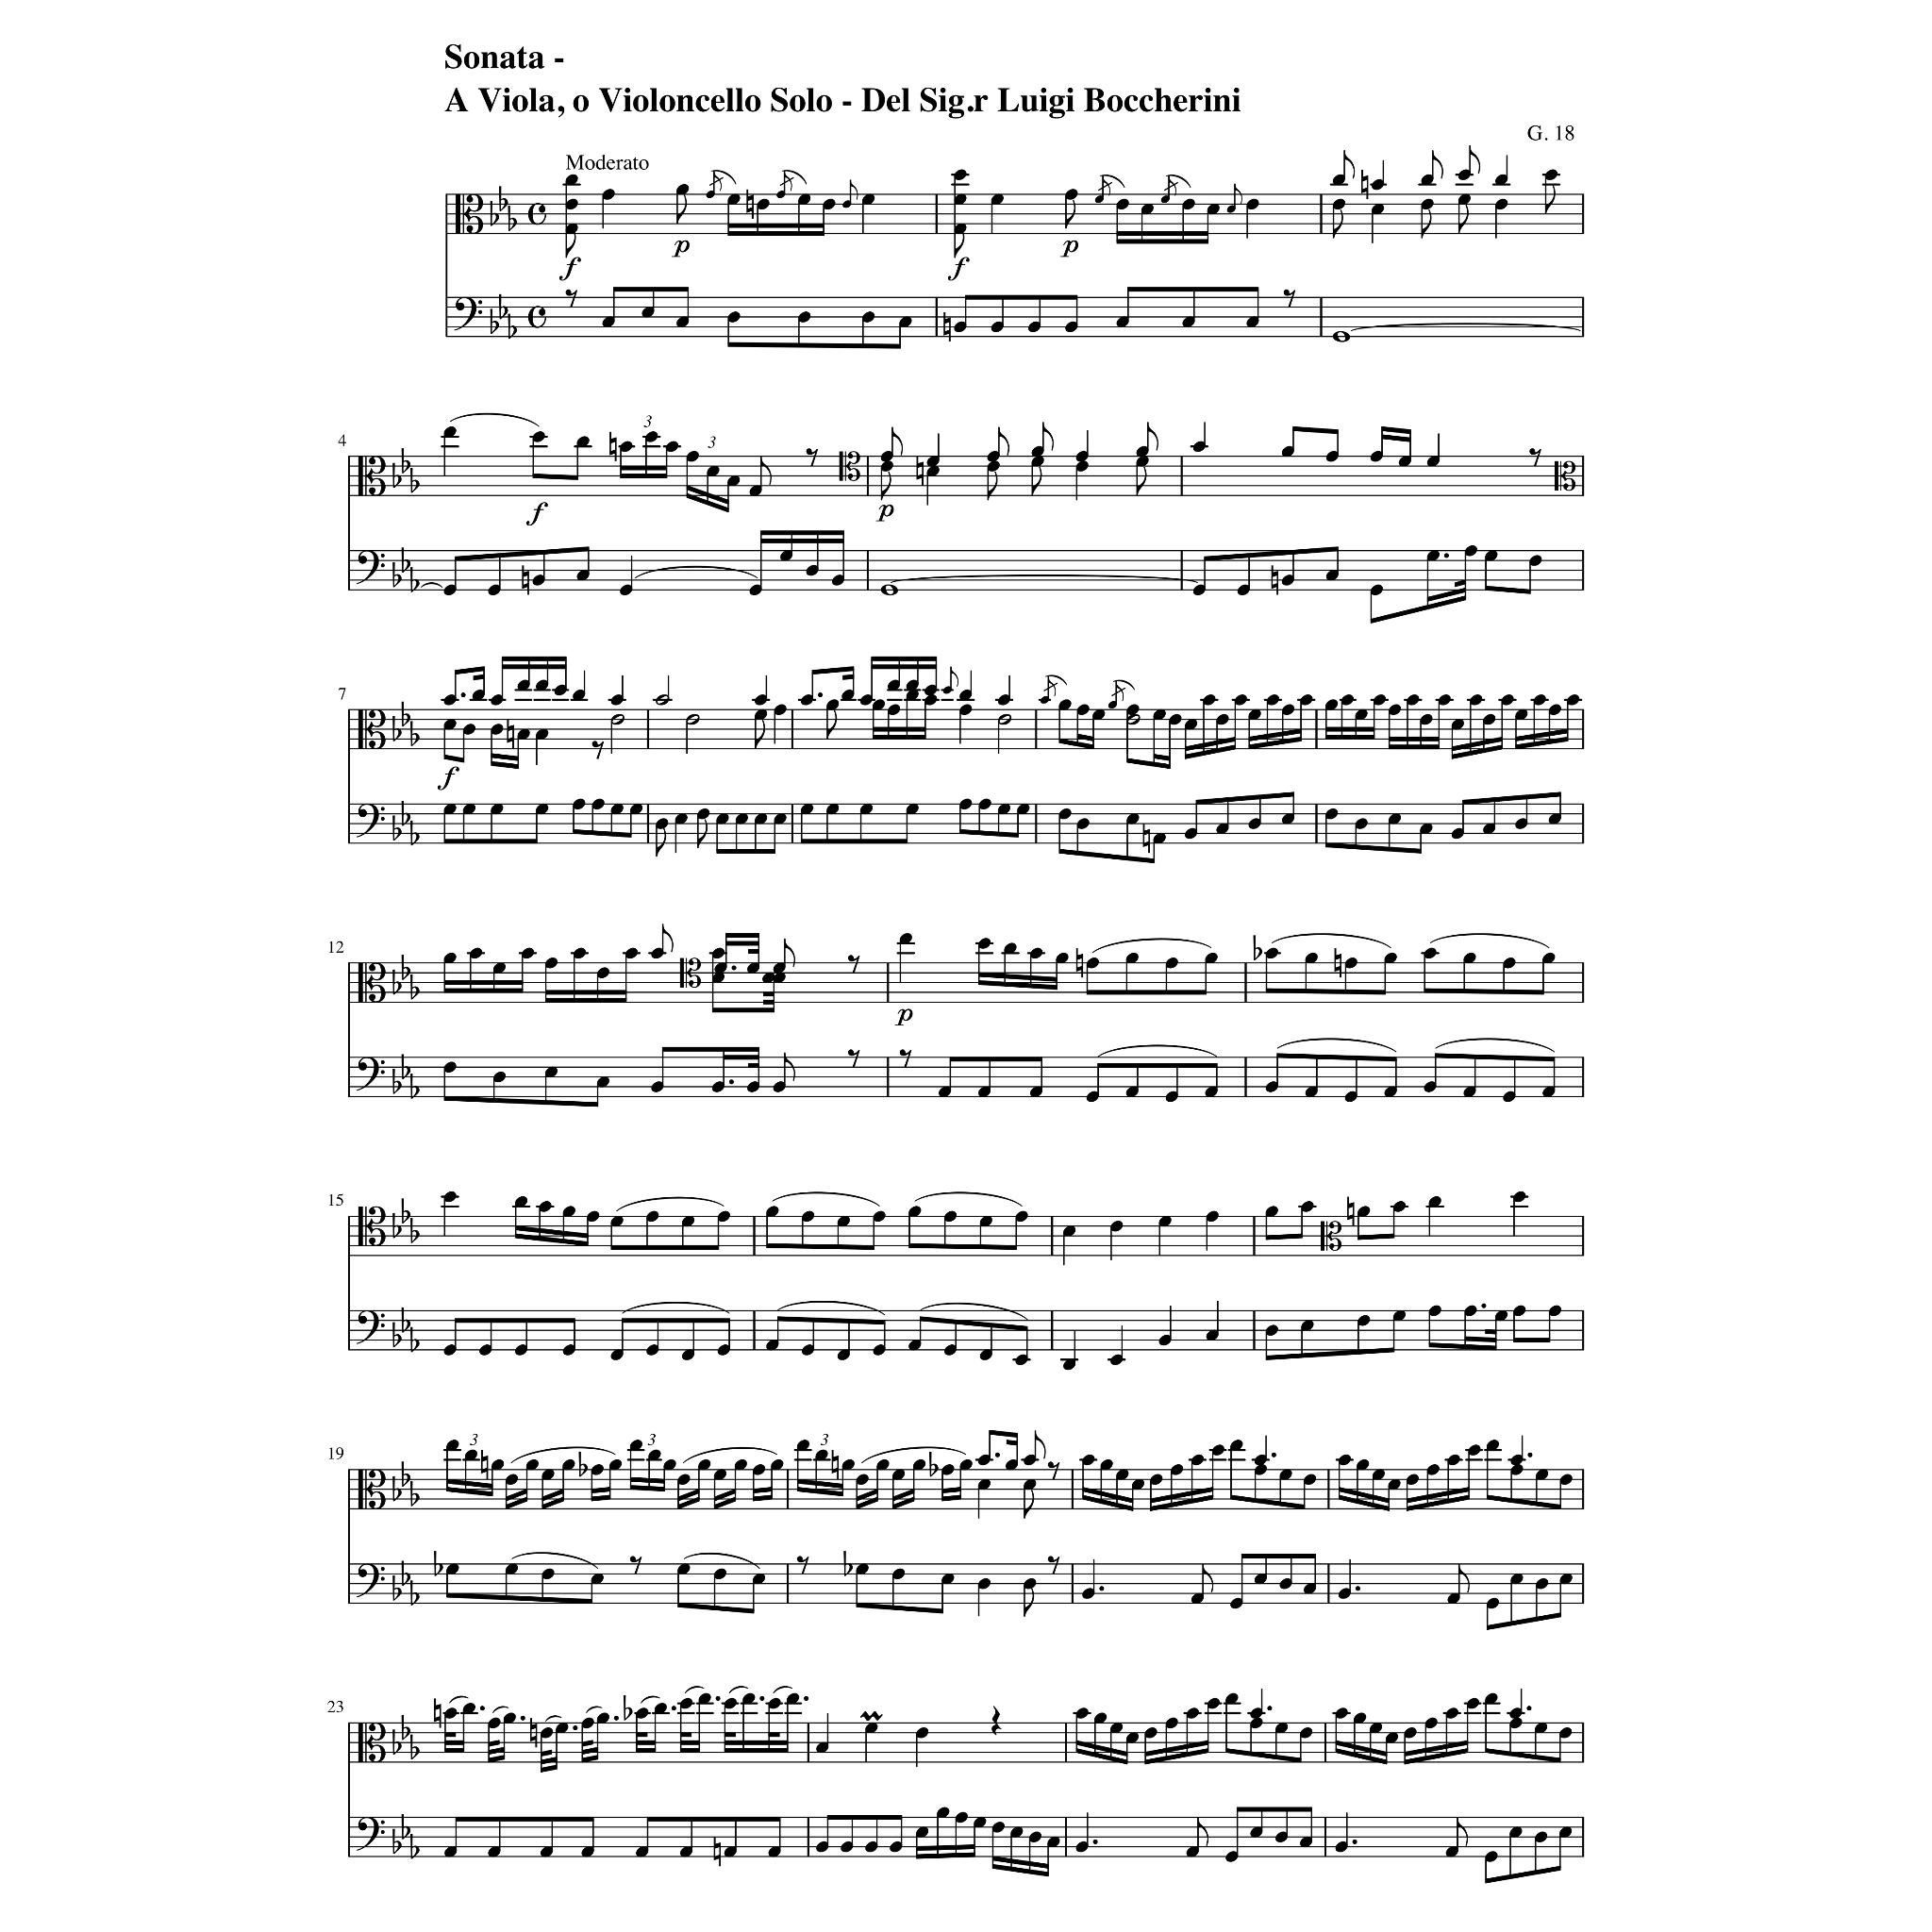fClef: (356, 550, 384, 586), (356, 803, 384, 839), (356, 1056, 384, 1092), (356, 1309, 384, 1345), (453, 297, 481, 331), (356, 1564, 384, 1598), (356, 1817, 384, 1851)
flag8thDown: (1334, 209, 1345, 239), (1546, 184, 1557, 214), (1422, 209, 1433, 239), (566, 228, 577, 258), (954, 228, 964, 258), (987, 471, 998, 501), (881, 471, 892, 501), (697, 819, 708, 849), (826, 709, 837, 740), (755, 720, 766, 750), (1024, 1587, 1035, 1617), (1065, 200, 1076, 228), (1136, 467, 1146, 495), (1031, 467, 1042, 495), (656, 828, 667, 856), (1024, 1490, 1035, 1518), (1460, 203, 1468, 234), (678, 195, 686, 225)
flag8thUp: (708, 165, 724, 191), (778, 165, 794, 191), (1111, 676, 1127, 702), (1097, 172, 1113, 196), (1162, 172, 1178, 196), (1044, 671, 1058, 697), (998, 426, 1010, 456), (1431, 150, 1444, 179), (1042, 423, 1054, 451), (1146, 423, 1159, 451), (662, 925, 674, 954), (1198, 1817, 1210, 1845), (1470, 145, 1481, 175), (892, 426, 902, 456), (1345, 150, 1355, 179), (761, 456, 771, 485), (784, 1053, 794, 1081), (784, 939, 794, 968), (1203, 1566, 1214, 1594), (1035, 1431, 1046, 1460), (1460, 1566, 1470, 1594), (1458, 1817, 1468, 1845), (849, 180, 858, 202), (950, 667, 959, 688), (1235, 184, 1242, 205)
noteheadBlack: (1246, 317, 1260, 329), (1246, 198, 1260, 211), (1182, 317, 1196, 329), (1182, 198, 1196, 211), (1495, 198, 1509, 211), (1495, 173, 1509, 186), (727, 311, 741, 324), (727, 193, 741, 205), (564, 173, 579, 186), (564, 198, 579, 211), (564, 223, 579, 235), (602, 317, 616, 329), (954, 193, 968, 205), (954, 223, 968, 235), (899, 317, 913, 329), (1281, 573, 1295, 586), (1281, 446, 1295, 458), (1484, 550, 1499, 563), (644, 430, 658, 442), (879, 460, 893, 472), (805, 564, 819, 577), (1281, 812, 1295, 824), (1233, 694, 1247, 706), (1247, 817, 1261, 830), (1058, 699, 1072, 711), (1076, 817, 1090, 830), (1532, 694, 1546, 706), (1500, 694, 1514, 706), (1514, 817, 1529, 830), (1325, 699, 1339, 711), (1451, 828, 1465, 840), (1451, 718, 1465, 731), (674, 812, 688, 824), (655, 817, 669, 830), (462, 803, 476, 816), (442, 694, 456, 706), (442, 718, 456, 731), (442, 803, 456, 816), (517, 729, 531, 741), (534, 729, 548, 741), (534, 803, 548, 816), (773, 812, 787, 824), (800, 694, 814, 706), (800, 803, 814, 816), (734, 812, 748, 824), (1304, 1085, 1318, 1097), (1125, 1085, 1139, 1097), (1502, 957, 1516, 970), (1384, 1085, 1398, 1097), (442, 1062, 456, 1074), (899, 932, 913, 945), (977, 1085, 991, 1097), (978, 1348, 993, 1361), (1062, 1359, 1076, 1371), (1513, 1191, 1527, 1203), (1357, 1315, 1371, 1327), (1357, 1205, 1371, 1217), (978, 1215, 993, 1228), (442, 1191, 456, 1203), (908, 1339, 922, 1352), (908, 1205, 922, 1217), (1230, 1598, 1244, 1610), (1338, 1454, 1352, 1467), (1338, 1587, 1352, 1599), (1131, 1479, 1145, 1491), (1559, 1573, 1573, 1585), (1536, 1468, 1550, 1481), (1371, 1468, 1385, 1481), (1387, 1479, 1401, 1491), (676, 1562, 690, 1575), (713, 1468, 727, 1481), (541, 1468, 556, 1481), (504, 1562, 518, 1575), (941, 1573, 955, 1585), (977, 1454, 991, 1467), (977, 1479, 991, 1491), (1249, 1707, 1263, 1720), (1249, 1718, 1263, 1730), (1249, 1826, 1263, 1838), (1334, 1707, 1348, 1720), (1299, 1727, 1313, 1739), (1299, 1836, 1313, 1849), (1185, 1707, 1200, 1720), (1185, 1845, 1200, 1858), (1559, 1727, 1573, 1739), (1559, 1826, 1573, 1838), (1403, 1727, 1417, 1739), (1424, 1718, 1438, 1730), (1484, 1851, 1499, 1863), (1509, 1707, 1523, 1720), (1509, 1718, 1523, 1730), (1509, 1826, 1523, 1838), (462, 1702, 476, 1714), (487, 1718, 501, 1730), (487, 1845, 501, 1858), (915, 1727, 929, 1739), (915, 1826, 929, 1838), (1010, 1826, 1024, 1838), (1207, 203, 1219, 216), (1332, 198, 1345, 211), (1332, 173, 1345, 186), (1116, 317, 1129, 329), (1116, 198, 1129, 211), (1141, 203, 1154, 216), (1371, 203, 1384, 216), (1371, 179, 1384, 191), (1458, 193, 1470, 205), (1421, 198, 1433, 211), (1421, 173, 1433, 186), (676, 317, 688, 329), (798, 311, 810, 324), (798, 193, 810, 205), (757, 198, 770, 211), (642, 306, 655, 318), (991, 193, 1003, 205), (862, 311, 874, 324), (862, 193, 874, 205), (823, 198, 835, 211), (1031, 455, 1044, 467), (1031, 446, 1044, 458), (987, 460, 1000, 472), (1136, 455, 1148, 467), (1136, 446, 1148, 458), (1076, 460, 1088, 472), (1465, 545, 1477, 557), (1428, 550, 1440, 563), (1428, 455, 1440, 467), (1399, 455, 1412, 467), (533, 573, 545, 586), (533, 430, 545, 442), (927, 455, 939, 467), (832, 573, 844, 586), (780, 550, 793, 563), (1185, 828, 1198, 840), (1185, 718, 1198, 731), (1203, 694, 1215, 706), (1267, 694, 1279, 706), (1300, 694, 1313, 706), (1017, 803, 1030, 816), (998, 803, 1010, 816), (998, 694, 1010, 706), (1127, 812, 1139, 824), (1548, 812, 1560, 824), (1568, 694, 1580, 706), (1341, 694, 1353, 706), (1355, 817, 1368, 830), (1373, 694, 1385, 706), (1438, 694, 1451, 706), (1470, 694, 1483, 706), (1407, 694, 1419, 706), (1389, 812, 1401, 824), (610, 694, 623, 706), (610, 803, 623, 816), (554, 685, 566, 697), (630, 803, 642, 816), (490, 694, 502, 706), (490, 803, 502, 816), (826, 699, 839, 711), (826, 803, 839, 816), (860, 694, 872, 706), (872, 699, 885, 711), (860, 803, 872, 816), (906, 803, 918, 816), (924, 685, 936, 697), (924, 694, 936, 706), (717, 812, 729, 824), (754, 694, 766, 706), (754, 812, 766, 824), (1205, 1085, 1217, 1097), (1030, 1085, 1042, 1097), (1166, 957, 1178, 970), (1086, 957, 1099, 970), (1543, 1085, 1555, 1097), (1345, 957, 1357, 970), (1463, 1085, 1476, 1097), (596, 1076, 609, 1088), (596, 966, 609, 978), (545, 957, 557, 970), (938, 1085, 950, 1097), (1265, 1323, 1277, 1336), (1265, 1205, 1277, 1217), (1159, 1334, 1171, 1346), (1159, 1215, 1171, 1228), (610, 1348, 623, 1361), (610, 1215, 623, 1228), (681, 1215, 694, 1228), (681, 1348, 694, 1361), (563, 1205, 575, 1217), (837, 1348, 849, 1361), (837, 1215, 849, 1228), (766, 1339, 778, 1352), (766, 1205, 778, 1217), (1254, 1454, 1267, 1467), (1254, 1573, 1267, 1585), (1212, 1444, 1224, 1456), (1279, 1468, 1292, 1481), (1083, 1454, 1095, 1467), (1083, 1587, 1095, 1599), (1191, 1454, 1203, 1467), (1116, 1468, 1129, 1481), (1486, 1598, 1499, 1610), (1511, 1454, 1523, 1467), (1511, 1573, 1523, 1585), (1447, 1454, 1460, 1467), (1468, 1444, 1481, 1456), (591, 1573, 603, 1585), (752, 1573, 764, 1585), (446, 1562, 458, 1575), (892, 1468, 904, 1481), (1023, 1454, 1035, 1467), (1023, 1479, 1035, 1491), (856, 1562, 869, 1575), (1226, 1851, 1238, 1863), (1047, 1836, 1060, 1849), (1076, 1707, 1088, 1720), (1166, 1718, 1178, 1730), (1145, 1727, 1157, 1739), (1445, 1707, 1458, 1720), (1445, 1845, 1458, 1858), (635, 1707, 648, 1720), (635, 1845, 648, 1858), (580, 1718, 593, 1730), (580, 1845, 593, 1858), (655, 1702, 667, 1714), (724, 1845, 736, 1858), (679, 1845, 692, 1858), (444, 1707, 456, 1720), (444, 1845, 456, 1858), (540, 1727, 552, 1739), (540, 1845, 552, 1858), (768, 1845, 780, 1858), (1545, 170, 1559, 180), (602, 189, 616, 200), (954, 322, 968, 333), (954, 170, 968, 180), (1028, 322, 1042, 333), (1529, 556, 1543, 566), (1325, 570, 1339, 580), (1325, 451, 1339, 462), (575, 570, 589, 580), (575, 437, 589, 448), (706, 465, 720, 476), (442, 584, 456, 594), (442, 426, 456, 437), (879, 451, 893, 462), (748, 584, 763, 594), (748, 485, 763, 495), (727, 476, 741, 487), (1215, 715, 1230, 725), (1215, 823, 1230, 833), (1281, 704, 1295, 715), (1247, 709, 1261, 720), (1092, 709, 1106, 720), (1058, 809, 1072, 819), (1076, 704, 1090, 715), (1483, 715, 1497, 725), (1483, 823, 1497, 833), (1514, 709, 1529, 720), (1325, 809, 1339, 819), (1419, 715, 1433, 725), (1419, 823, 1433, 833), (591, 798, 605, 809), (571, 690, 586, 701), (571, 798, 586, 809), (462, 724, 476, 734), (517, 679, 531, 690), (534, 679, 548, 690), (886, 679, 901, 690), (886, 704, 901, 715), (773, 704, 787, 715), (1304, 954, 1318, 964), (1003, 943, 1017, 954), (1125, 954, 1139, 964), (1502, 1092, 1516, 1102), (1384, 954, 1398, 964), (711, 1081, 725, 1092), (711, 973, 725, 984), (711, 948, 725, 959), (442, 954, 456, 964), (520, 948, 534, 959), (492, 1072, 506, 1083), (492, 962, 506, 973), (977, 938, 991, 948), (761, 973, 775, 984), (1205, 1330, 1219, 1341), (1205, 1212, 1219, 1223), (1300, 1201, 1315, 1212), (1300, 1320, 1315, 1330), (1062, 1226, 1076, 1237), (1109, 1355, 1123, 1366), (1109, 1221, 1123, 1231), (1513, 1306, 1527, 1316), (1428, 1306, 1442, 1316), (1428, 1196, 1442, 1207), (586, 1212, 600, 1223), (717, 1345, 731, 1355), (717, 1212, 731, 1223), (646, 1345, 660, 1355), (646, 1212, 660, 1223), (442, 1345, 456, 1355), (478, 1345, 492, 1355), (872, 1345, 886, 1355), (872, 1212, 886, 1223), (943, 1345, 957, 1355), (943, 1212, 957, 1223), (1230, 1440, 1244, 1451), (1559, 1474, 1573, 1484), (1536, 1578, 1550, 1589), (1405, 1474, 1419, 1484), (1426, 1465, 1440, 1476), (713, 1569, 727, 1580), (676, 1474, 690, 1484), (697, 1460, 711, 1470), (464, 1451, 478, 1461), (490, 1460, 504, 1470), (541, 1569, 556, 1580), (561, 1460, 575, 1470), (504, 1474, 518, 1484), (941, 1465, 955, 1476), (876, 1460, 890, 1470), (959, 1460, 973, 1470), (977, 1578, 991, 1589), (1334, 1842, 1348, 1852), (1109, 1723, 1123, 1734), (1125, 1732, 1139, 1743), (1369, 1723, 1384, 1734), (1353, 1713, 1368, 1723), (1484, 1693, 1499, 1704), (502, 1713, 517, 1723), (936, 1806, 950, 1817), (840, 1842, 855, 1852), (991, 1822, 1005, 1833), (1028, 1831, 1042, 1842), (973, 1817, 987, 1828), (786, 1693, 800, 1704), (1065, 322, 1077, 333), (1458, 170, 1470, 180), (676, 184, 688, 195), (1065, 189, 1077, 200), (991, 322, 1003, 333), (1192, 584, 1205, 594), (1192, 442, 1205, 453), (1237, 584, 1249, 594), (987, 451, 1000, 462), (1076, 451, 1088, 462), (1371, 584, 1384, 594), (1371, 451, 1384, 462), (619, 584, 632, 594), (619, 442, 632, 453), (686, 451, 699, 462), (665, 442, 678, 453), (488, 584, 501, 594), (927, 465, 939, 476), (1154, 709, 1166, 720), (1154, 833, 1166, 844), (1169, 715, 1182, 725), (978, 798, 991, 809), (1127, 704, 1139, 715), (1548, 704, 1560, 715), (1355, 709, 1368, 720), (1389, 704, 1401, 715), (697, 809, 709, 819), (472, 690, 485, 701), (490, 724, 502, 734), (842, 690, 855, 701), (906, 679, 918, 690), (959, 690, 971, 701), (959, 704, 971, 715), (959, 798, 971, 809), (906, 690, 918, 701), (754, 709, 766, 720), (1265, 1081, 1277, 1092), (1265, 948, 1277, 959), (1166, 1092, 1178, 1102), (1205, 954, 1217, 964), (1056, 954, 1069, 964), (1030, 948, 1042, 959), (1086, 1092, 1099, 1102), (1543, 954, 1555, 964), (1345, 1092, 1357, 1102), (1463, 954, 1476, 964), (1424, 1081, 1437, 1092), (1424, 948, 1437, 959), (573, 948, 586, 959), (545, 1067, 557, 1077), (651, 1081, 663, 1092), (651, 948, 663, 959), (625, 948, 637, 959), (715, 962, 727, 973), (469, 948, 481, 959), (747, 1081, 759, 1092), (747, 962, 759, 973), (773, 973, 786, 984), (773, 962, 786, 973), (773, 1081, 786, 1092), (1016, 1355, 1028, 1366), (1016, 1212, 1028, 1223), (1550, 1306, 1562, 1316), (1495, 1311, 1507, 1322), (1394, 1201, 1407, 1212), (1394, 1311, 1407, 1322), (1465, 1306, 1477, 1316), (563, 1345, 575, 1355), (538, 1201, 550, 1212), (515, 1345, 527, 1355), (515, 1196, 527, 1207), (801, 1212, 814, 1223), (801, 1345, 814, 1355), (1254, 1465, 1267, 1476), (1304, 1474, 1316, 1484), (1304, 1583, 1316, 1594), (1279, 1578, 1292, 1589), (1150, 1474, 1162, 1484), (1171, 1465, 1184, 1476), (1191, 1592, 1203, 1603), (1100, 1460, 1113, 1470), (1357, 1460, 1369, 1470), (1486, 1440, 1499, 1451), (1511, 1465, 1523, 1476), (1447, 1592, 1460, 1603), (648, 1451, 660, 1461), (630, 1440, 642, 1451), (663, 1460, 676, 1470), (591, 1465, 603, 1476), (609, 1460, 621, 1470), (734, 1460, 747, 1470), (752, 1465, 764, 1476), (446, 1440, 458, 1451), (525, 1460, 538, 1470), (913, 1460, 925, 1470), (892, 1569, 904, 1580), (1005, 1460, 1017, 1470), (1023, 1578, 1035, 1589), (816, 1451, 828, 1461), (771, 1460, 784, 1470), (796, 1440, 809, 1451), (856, 1474, 869, 1484), (842, 1460, 855, 1470), (1226, 1693, 1238, 1704), (1276, 1723, 1288, 1734), (1276, 1831, 1288, 1842), (1095, 1713, 1108, 1723), (1076, 1842, 1088, 1852), (1207, 1698, 1219, 1709), (1536, 1723, 1548, 1734), (1536, 1831, 1548, 1842), (1385, 1732, 1398, 1743), (1467, 1698, 1479, 1709), (596, 1713, 609, 1723), (724, 1698, 736, 1709), (699, 1693, 711, 1704), (679, 1698, 692, 1709), (556, 1723, 568, 1734), (890, 1842, 902, 1852), (865, 1842, 878, 1852), (865, 1723, 878, 1734), (955, 1812, 968, 1822), (816, 1842, 828, 1852), (768, 1698, 780, 1709), (816, 1743, 828, 1753), (743, 1693, 755, 1704), (1226, 205, 1235, 214), (1095, 195, 1104, 203), (1161, 195, 1169, 203), (706, 189, 715, 198), (777, 189, 786, 198), (842, 200, 851, 209), (1040, 695, 1049, 704), (1108, 701, 1116, 709), (943, 686, 952, 695)
noteheadHalf: (655, 694, 669, 706), (998, 715, 1012, 725), (1125, 715, 1139, 725), (610, 715, 625, 725), (685, 715, 699, 725)
noteheadWhole: (1332, 331, 1350, 343), (881, 584, 899, 596)
rest8th: (1529, 448, 1543, 467), (805, 448, 819, 467), (899, 1049, 913, 1069), (1283, 290, 1297, 308), (847, 1049, 860, 1069), (1047, 1461, 1060, 1481), (1047, 1555, 1060, 1575), (630, 1555, 642, 1575), (796, 1555, 809, 1575), (564, 290, 577, 308), (591, 741, 603, 759), (847, 955, 860, 973)
restQuarter: (991, 1706, 1001, 1736)
